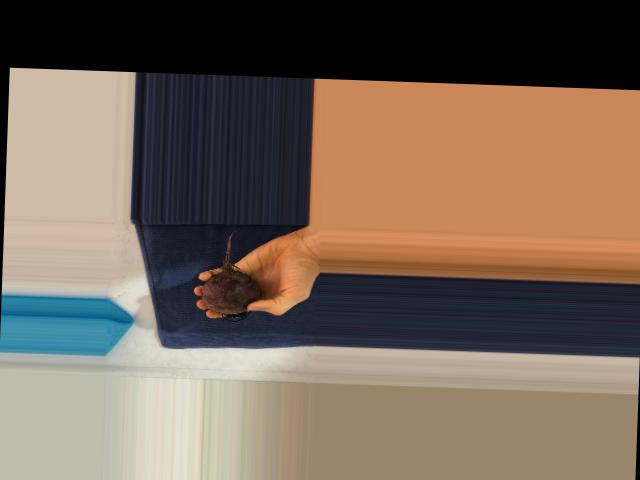beet: (199, 228, 261, 322)
